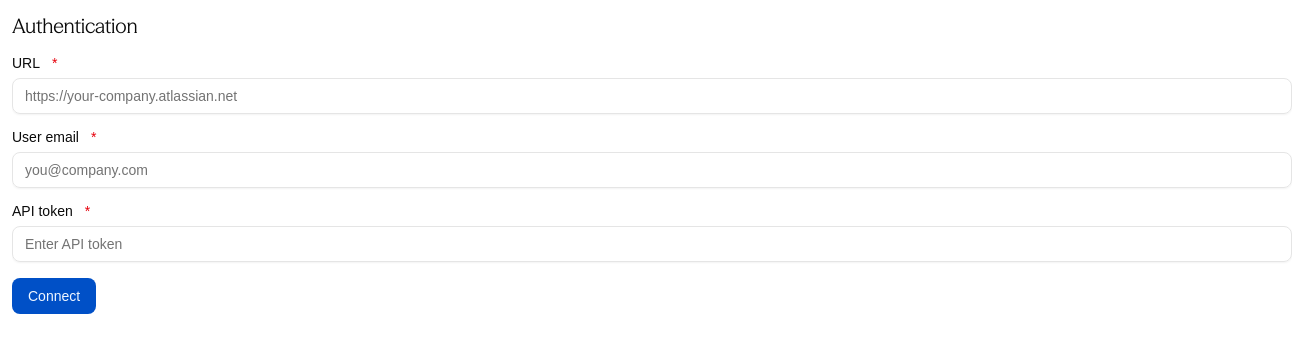
Test case: ConfluenceForm › Form Validation › should show validation error for invalid URL format after clicking Connect
This screenshot has width=1304, height=359.
Type "invalid-url" into the field labelled "URL *" at (652, 96), box x1=12 y1=78 x2=1292 y2=114
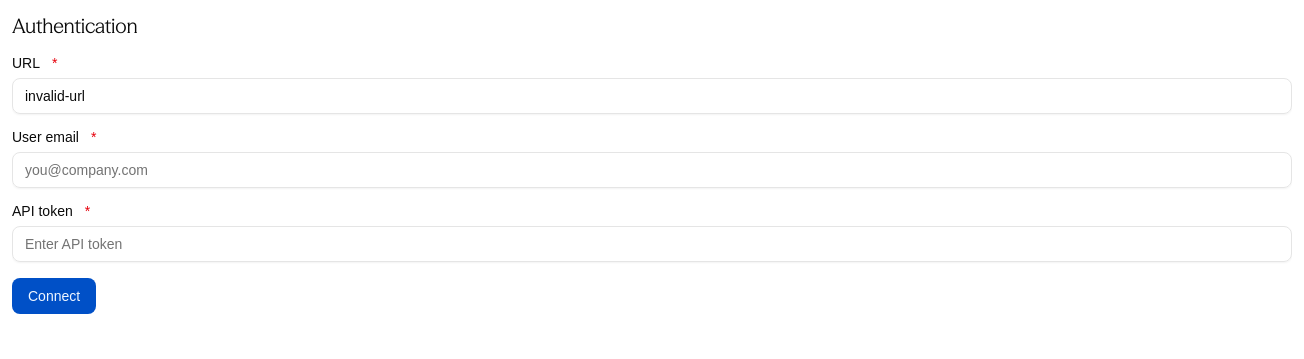
Type "user@company.com" into the field labelled "User email *" at (652, 170), box x1=12 y1=152 x2=1292 y2=188
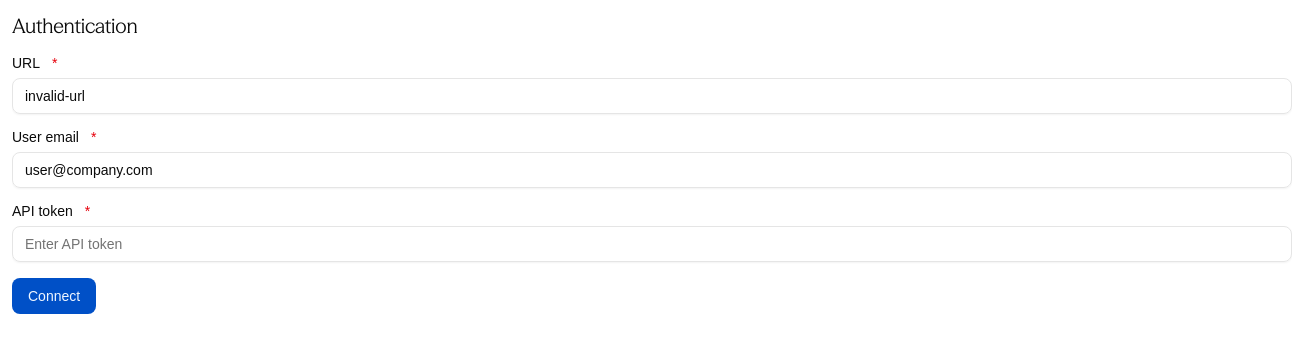
Type "secret-token" into the password field labelled "API token *" at (652, 244), box x1=12 y1=226 x2=1292 y2=262
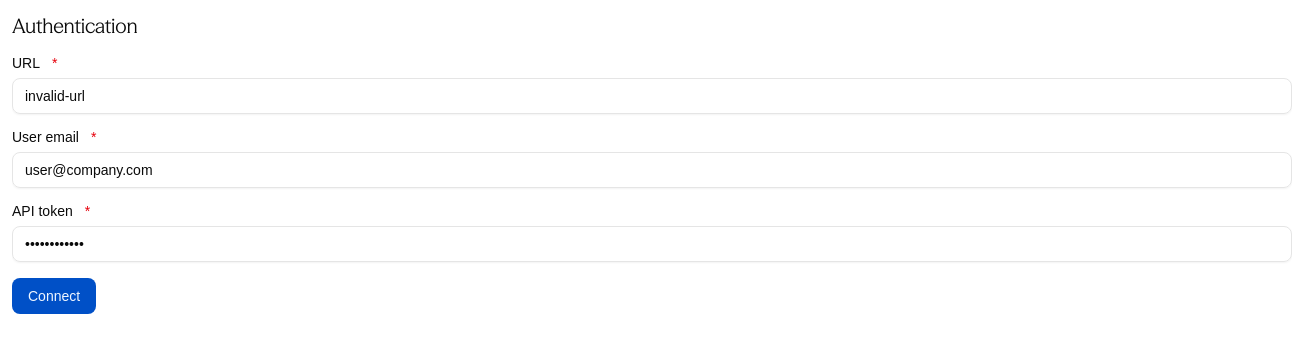
Click the button "Connect" at (54, 296), box x1=12 y1=278 x2=96 y2=314
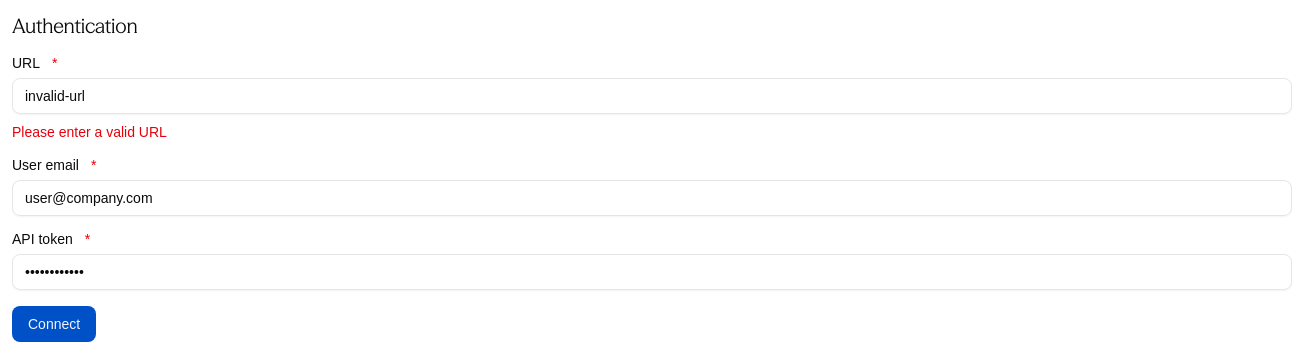
Expected: the text "Please enter a valid URL" is shown, x1=12 y1=122 x2=167 y2=142
